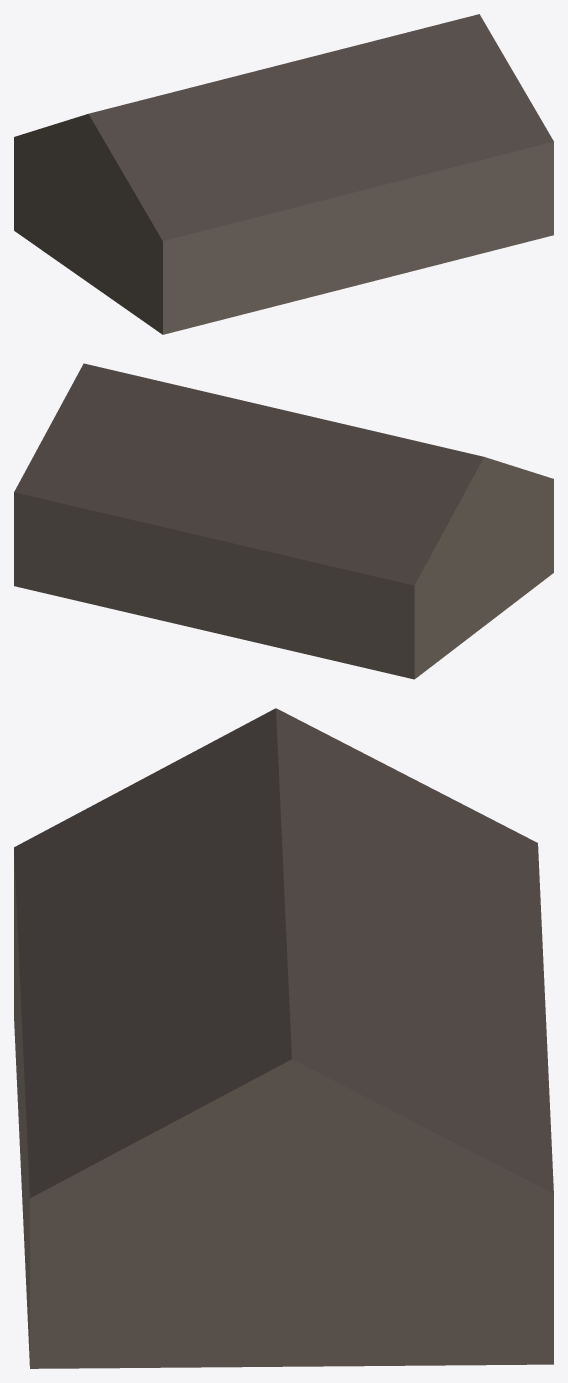
3 renders of one model, top to bottom at view 1: azimuth 30°, elevation 25°; view 2: azimuth 150°, elevation 25°; view 3: azimuth 270°, elevation 25°, orthographic. The views are drawn at different scales.
Parts seen in each view (by area): view 1: HP-w858807485; view 2: HP-w858807485; view 3: HP-w858807485.
Part boxes in pixels (x1,y1,x2,y2): HP-w858807485: (14, 14, 553, 334); HP-w858807485: (14, 363, 553, 679); HP-w858807485: (14, 708, 553, 1368).
Bounding box in the file's own units: 13.42 × 5.41 × 8.61.
